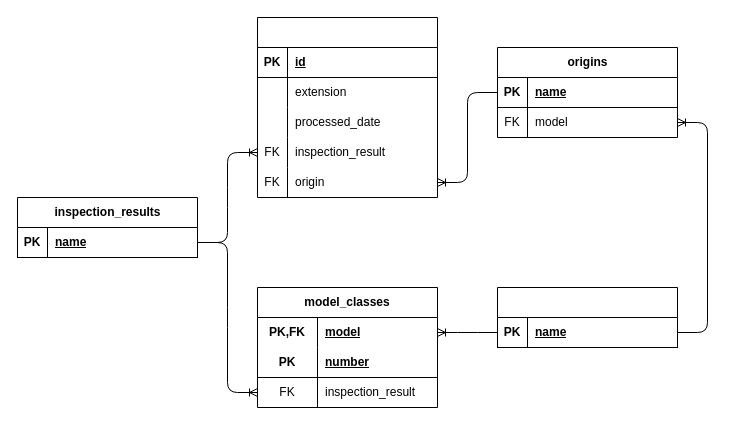
This 733x425 diagram has some shape labels left out. The box of each missing label's shape, as (x1, y1, x2, y2) in pixels:
images: (256, 16, 438, 198)
models: (496, 286, 678, 348)
